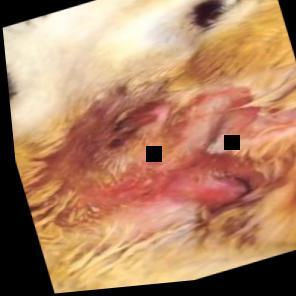skin_lesions: (14, 52, 296, 272)
